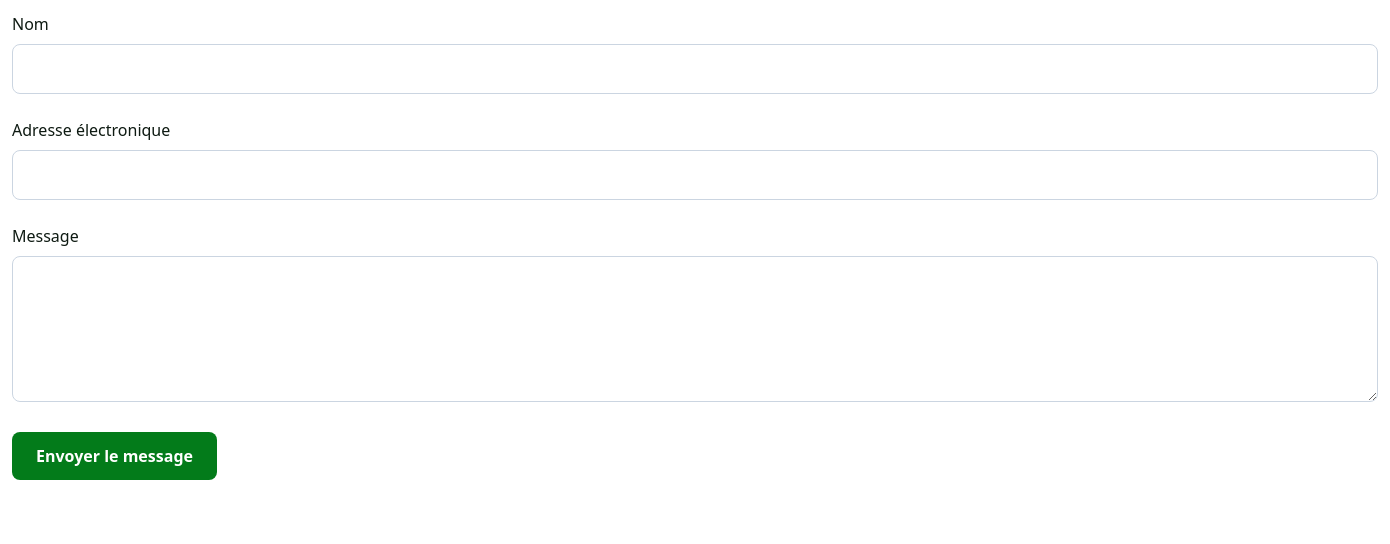
Test case: Formulaire de contact › envoie le message puis affiche la confirmation
This screenshot has width=1390, height=544.
In the field labelled "Nom": coordinates (695, 69) x1=12 y1=44 x2=1378 y2=94, type "Ronald Bill"
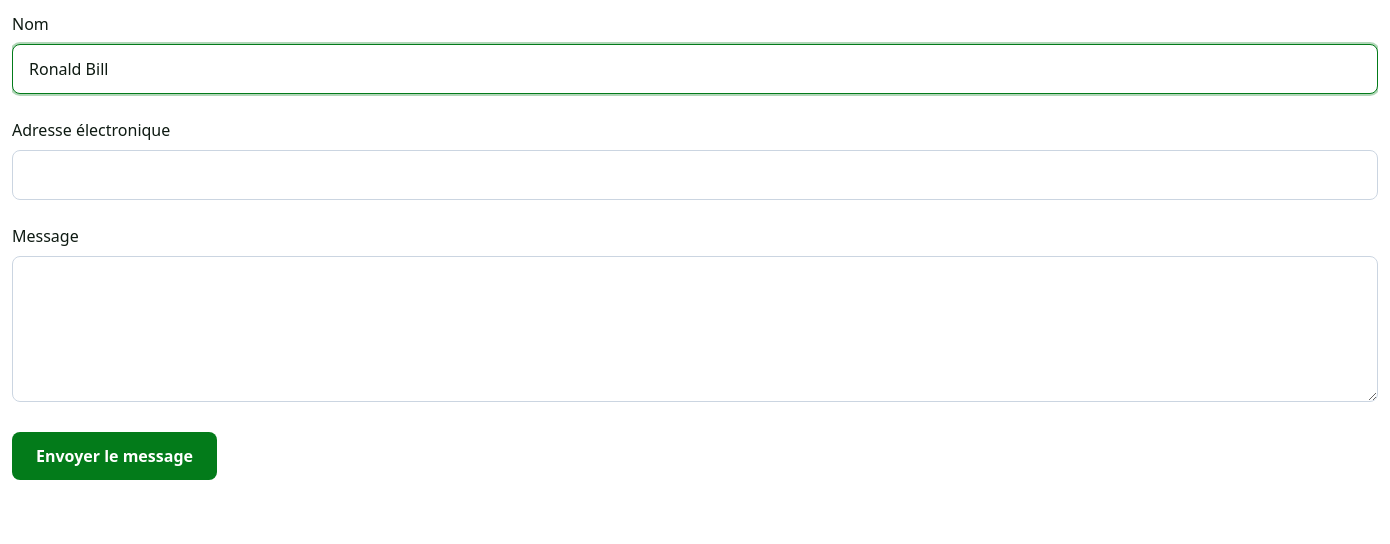
In the field labelled "Adresse électronique": coordinates (695, 175) x1=12 y1=150 x2=1378 y2=200, type "ronald@exemple.test"
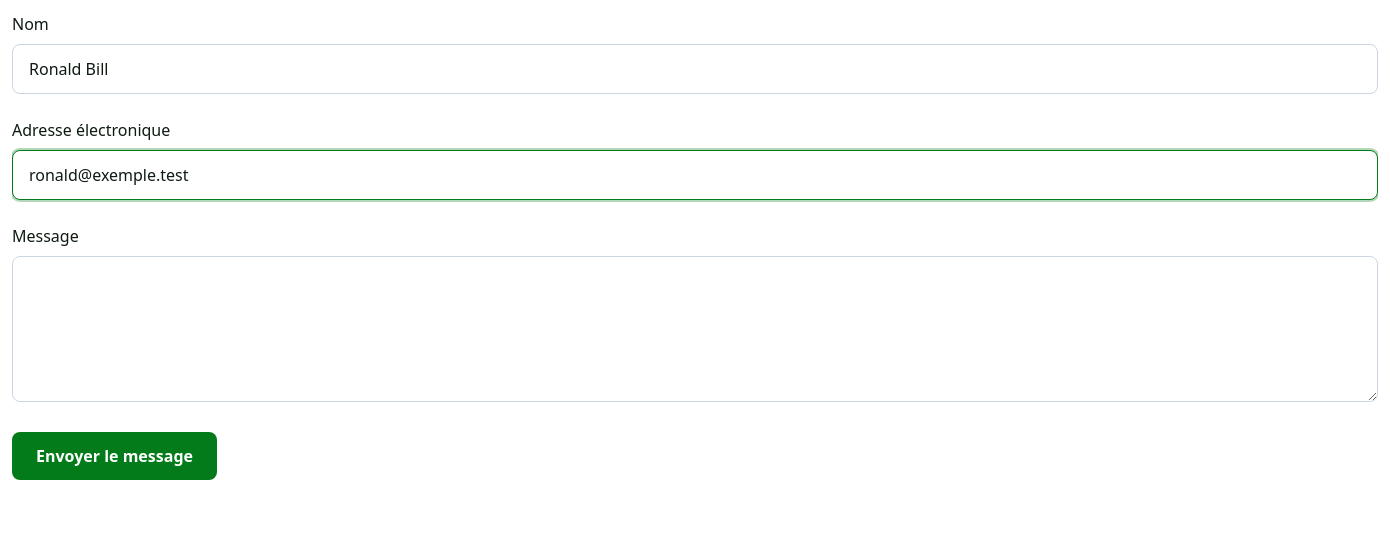
In the text box labelled "Message": coordinates (695, 329) x1=12 y1=256 x2=1378 y2=402, type "Bonjour, je souhaite un devis pour un site vitrine."
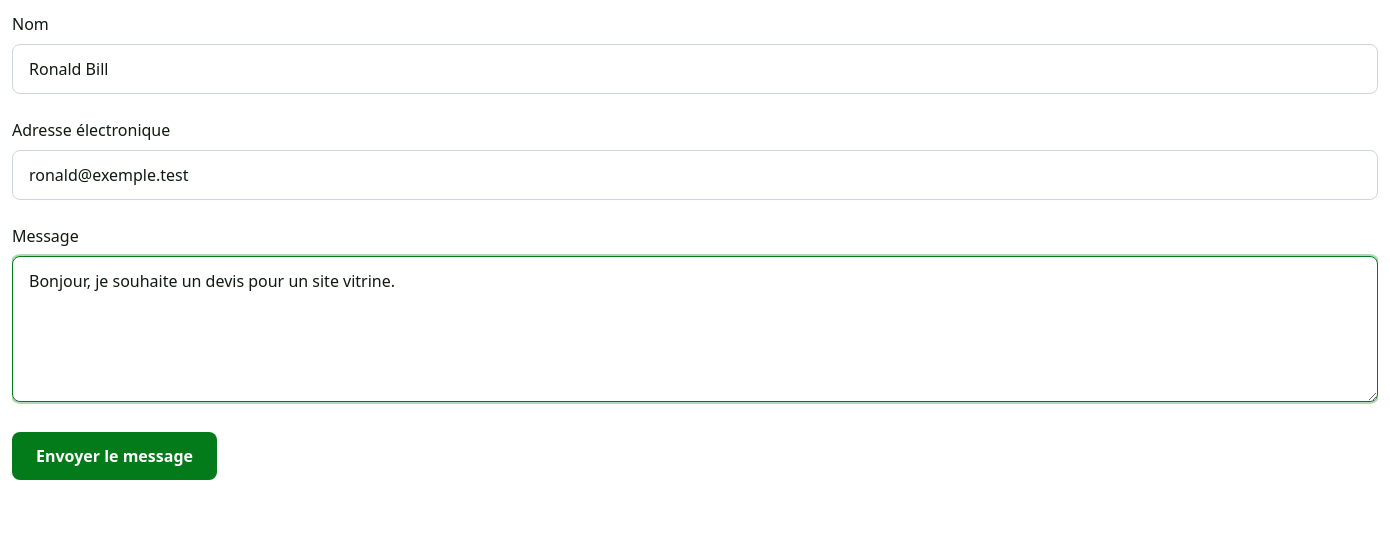
Click the button "Envoyer le message": coordinates (114, 456) x1=12 y1=432 x2=217 y2=480
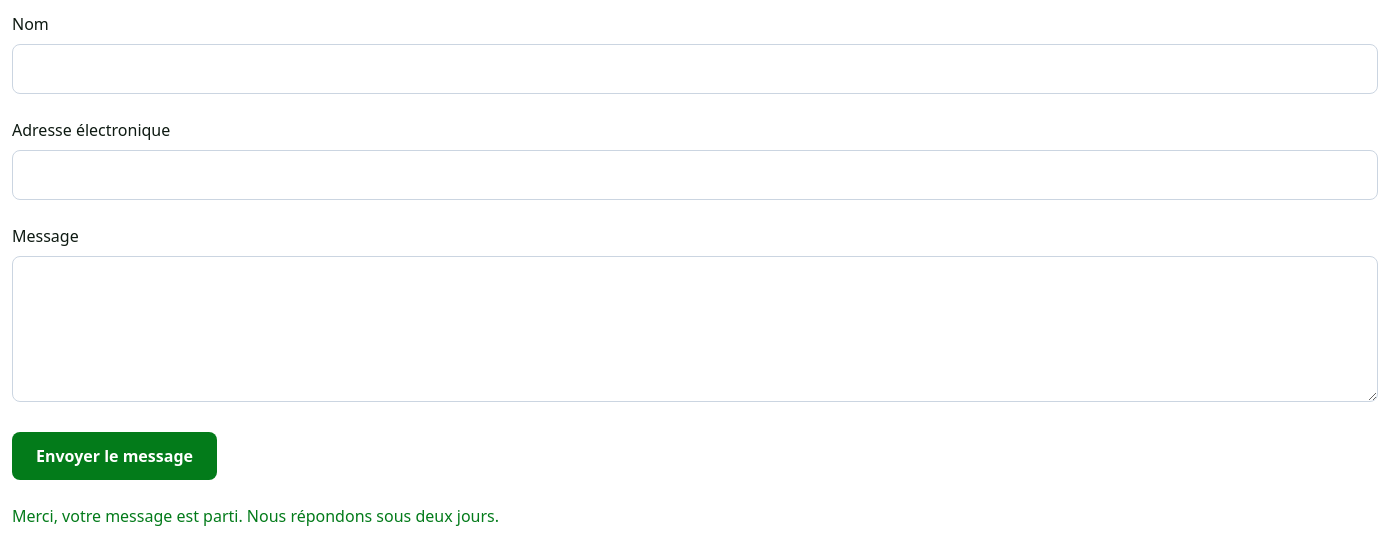
Check: the text "votre message est parti" is shown, box x1=12 y1=505 x2=499 y2=527
Check: the field labelled "Nom" is empty, box x1=12 y1=44 x2=1378 y2=94
